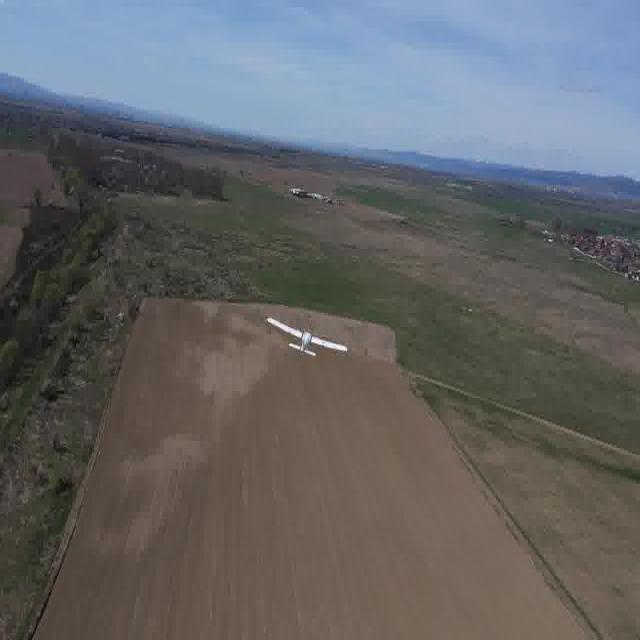iha: (296, 314, 321, 377)
